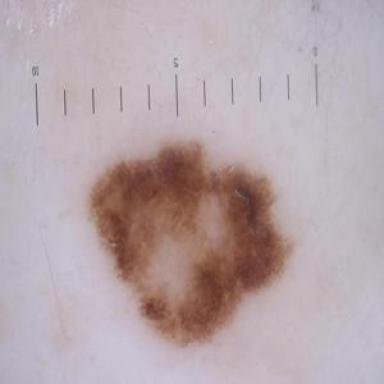Melanoma: (91, 142, 290, 343)
